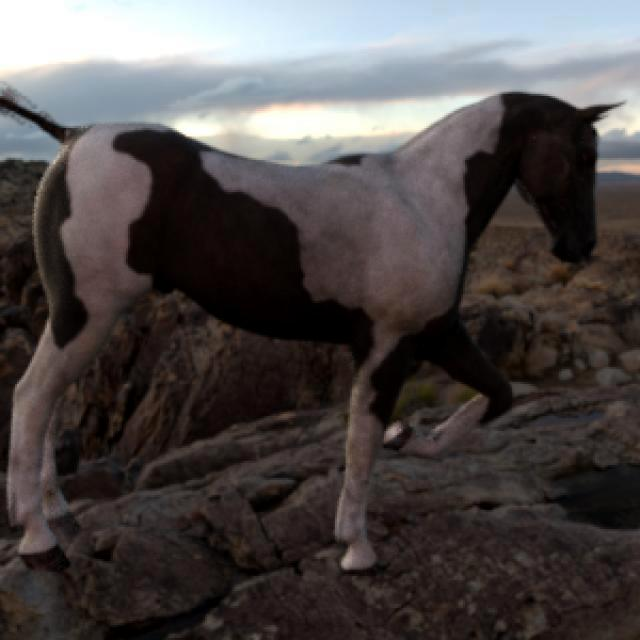horse: (1, 92, 618, 572), (385, 425, 411, 446)
